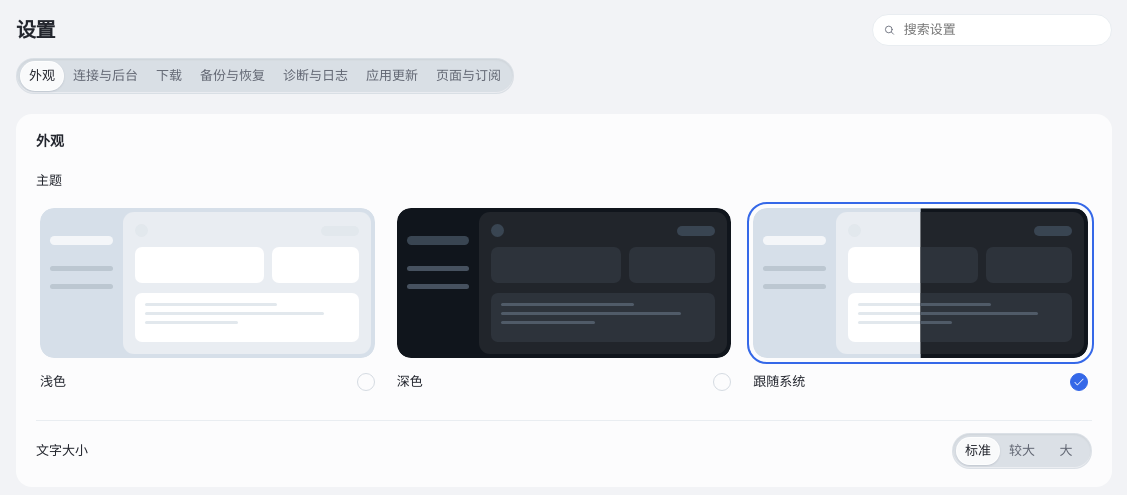
Test: 三档选择即时生效并落盘，回到标准恢复默认；不重启、不推送代理配置、不增加路由版本
The width and height of the screenshot is (1127, 495).
Later steps or results of the test are not shown.
Click the button "较大" at coordinates (1022, 451), box [1000,437,1044,465]
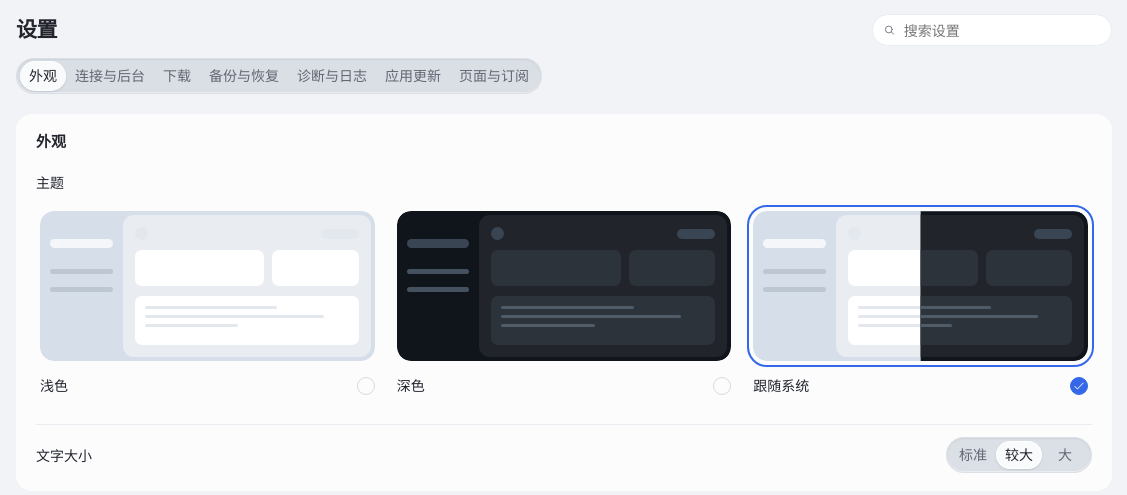
Now the button "较大" is pressed, box [996,441,1042,469]
Click the button "大" at coordinates (1065, 455), box [1042,441,1088,469]
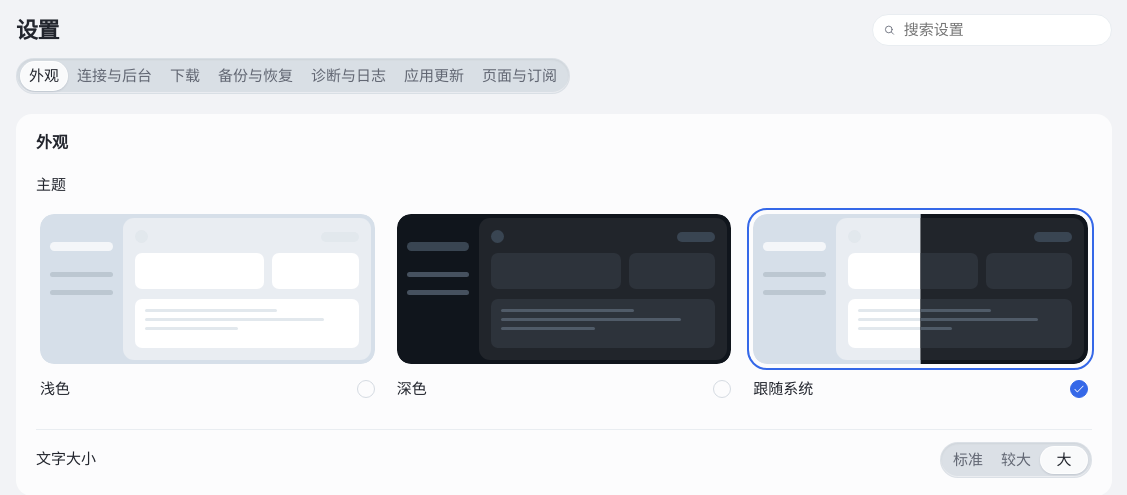
Now the button "大" is pressed, box [1040,446,1088,474]
